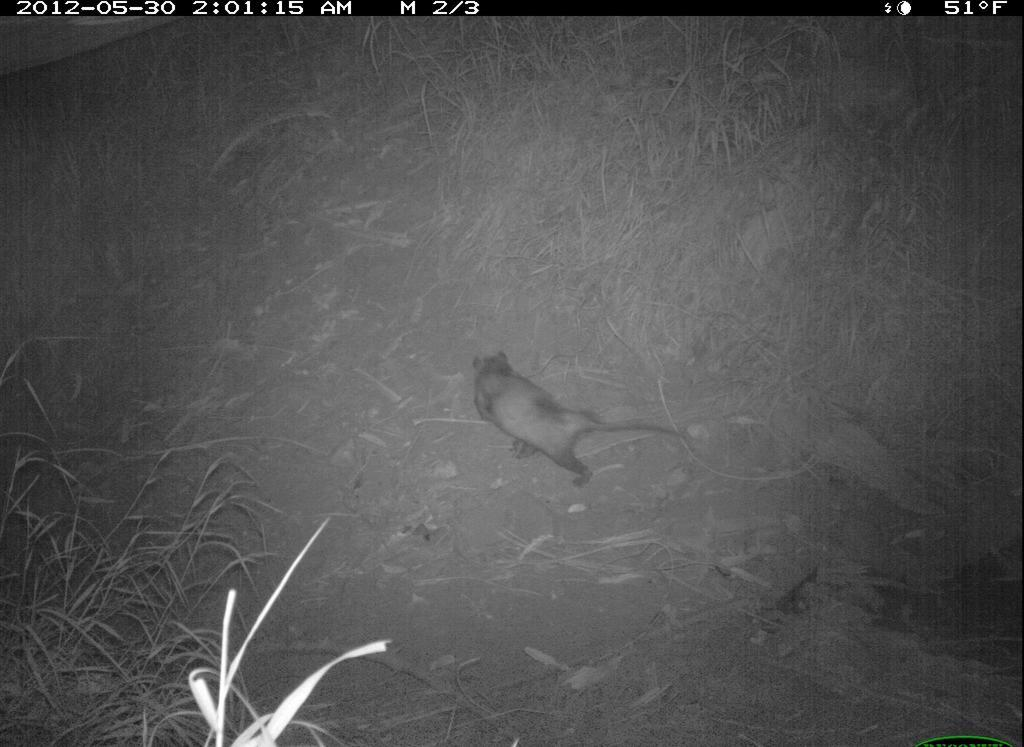opossum: (461, 336, 708, 489)
